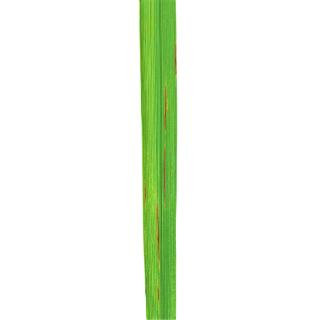Bercak-Cokelat-Sempit: (153, 206, 163, 266), (160, 148, 170, 203), (160, 84, 170, 130), (142, 187, 152, 201), (156, 284, 163, 301)
